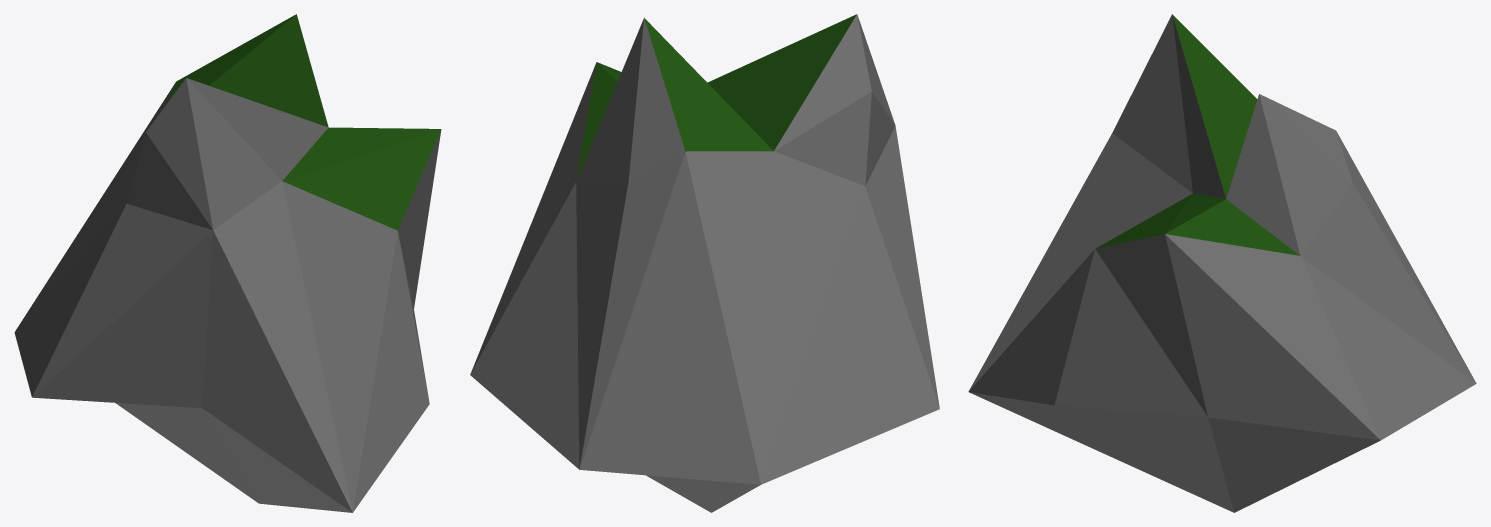
Rendered from Stone2_8.fbx.
3 views of the same model, side by side, from view 1: azimuth 30°, elevation 25°; view 2: azimuth 150°, elevation 25°; view 3: azimuth 270°, elevation 25° (orthographic). The views are drawn at different scales.
Parts seen in each view (by area): view 1: Stone2_8; view 2: Stone2_8; view 3: Stone2_8.
Boxes of the visible parts, x1,y1,x2,y2 form: Stone2_8: (14, 14, 441, 512); Stone2_8: (470, 14, 939, 512); Stone2_8: (968, 14, 1476, 512).
Bounding box in the file's own units: 74.94 × 91.12 × 93.25.
